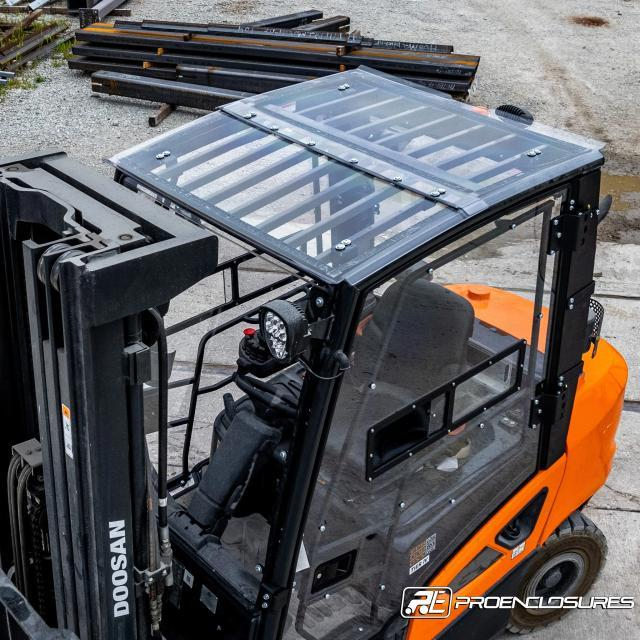forklift: (3, 61, 635, 640)
